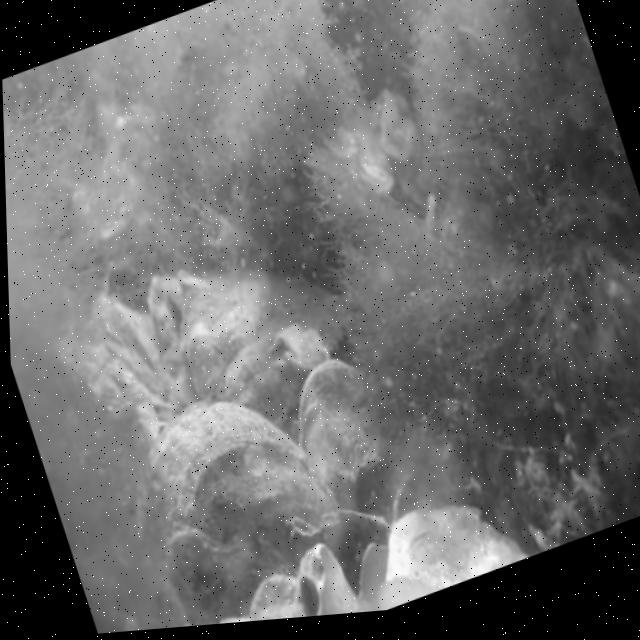Oyster-Indeterminate: (142, 402, 340, 622), (173, 260, 352, 421), (378, 498, 531, 611), (302, 367, 386, 513), (105, 293, 164, 368), (250, 576, 297, 618)
Oyster-Open: (322, 510, 390, 610)
